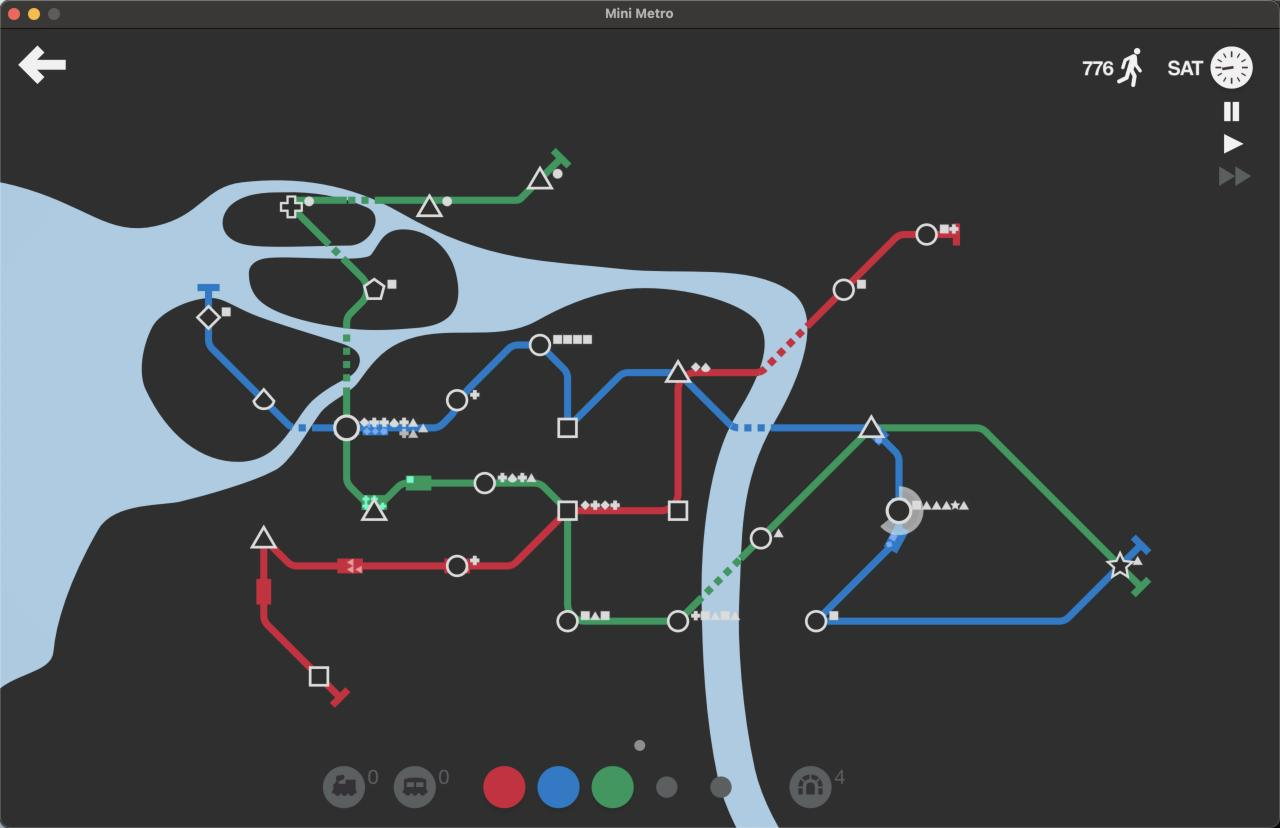CIRCLE: (884, 496, 913, 525), (332, 413, 360, 442), (445, 554, 470, 578), (473, 471, 497, 495), (832, 278, 855, 302), (750, 526, 773, 550), (915, 223, 939, 246), (446, 388, 469, 412), (528, 333, 552, 356), (667, 610, 690, 634), (556, 609, 579, 633), (805, 609, 828, 633)
CROSS: (279, 195, 304, 218)
GEM: (196, 305, 221, 329)
PENTAGON: (363, 277, 386, 300)
SQUARE: (667, 500, 689, 522), (557, 416, 578, 439), (557, 500, 578, 521), (308, 666, 329, 687)
STAR: (1105, 548, 1143, 581)
TRIANGLE: (858, 413, 886, 440), (526, 164, 553, 191), (250, 524, 278, 550), (360, 497, 389, 522), (415, 193, 443, 218), (665, 358, 691, 383)
WEDGE: (252, 387, 275, 410)
